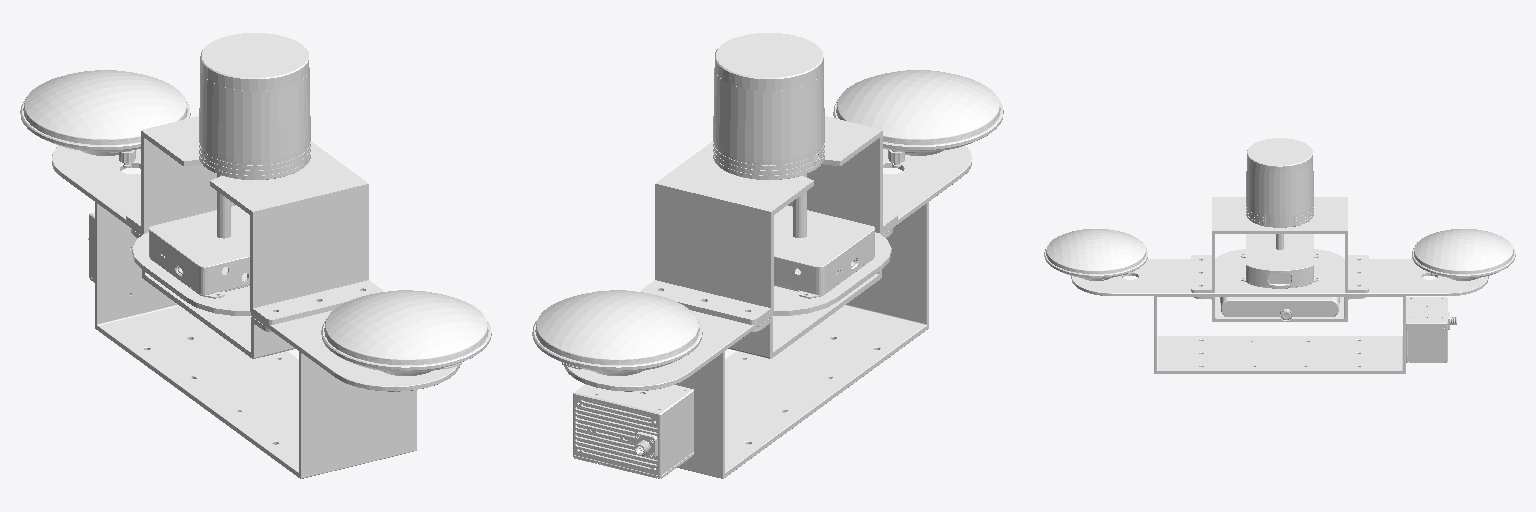
The robot description file, URDF, robot "data_box":
<?xml version="1.0" encoding="utf-8"?>
<!-- This URDF was automatically created by SolidWorks to URDF Exporter! Originally created by [author] ([email redacted]) 
     Commit Version: 1.6.0-1-g15f4949  Build Version: 1.6.7594.29634
     For more information, please see http://wiki.ros.org/sw_urdf_exporter -->
<robot
  name="data_box">
  <link
    name="base_link">
    <inertial>
      <origin
        xyz="-0.000787428914994281 -1.83075406456207E-05 0.107323331270255"
        rpy="0 0 0" />
      <mass
        value="1.15838359805273" />
      <inertia
        ixx="0.0219713158559028"
        ixy="-9.40626592111054E-07"
        ixz="9.2738420089645E-05"
        iyy="0.00422673444217098"
        iyz="-7.70783645651175E-07"
        izz="0.0207259268117321" />
    </inertial>
    <visual>
      <origin
        xyz="0 0 0"
        rpy="0 0 0" />
      <geometry>
        <mesh
          filename="package://data_box/meshes/base_link.STL" />
      </geometry>
      <material
        name="">
        <color
          rgba="1 1 1 1" />
      </material>
    </visual>
    <collision>
      <origin
        xyz="0 0 0"
        rpy="0 0 0" />
      <geometry>
        <mesh
          filename="package://data_box/meshes/base_link.STL" />
      </geometry>
    </collision>
  </link>
  <link
    name="rs_lidar_helios_16_link">
    <inertial>
      <origin
        xyz="-0.00452075202393731 -7.80288514685284E-05 0.260457610770344"
        rpy="0 0 0" />
      <mass
        value="0.113882797696896" />
      <inertia
        ixx="0.000125295044463457"
        ixy="1.11588859800229E-07"
        ixz="3.34574585202296E-07"
        iyy="0.000124081102889914"
        iyz="-2.66581194133952E-08"
        izz="0.000195631931532674" />
    </inertial>
    <visual>
      <origin
        xyz="0 0 0"
        rpy="0 0 0" />
      <geometry>
        <mesh
          filename="package://data_box/meshes/rs_lidar_helios_16_link.STL" />
      </geometry>
      <material
        name="">
        <color
          rgba="1 1 1 1" />
      </material>
    </visual>
    <collision>
      <origin
        xyz="0 0 0"
        rpy="0 0 0" />
      <geometry>
        <mesh
          filename="package://data_box/meshes/rs_lidar_helios_16_link.STL" />
      </geometry>
    </collision>
  </link>
  <joint
    name="rs_lidar_helios_16_joint"
    type="fixed">
    <origin
      xyz="0 0 0"
      rpy="0 0 0" />
    <parent
      link="base_link" />
    <child
      link="rs_lidar_helios_16_link" />
    <axis
      xyz="0 0 0" />
  </joint>
  <link
    name="velodyne">
    <inertial>
      <origin
        xyz="-0.00452075202393731 -7.80288514685284E-05 0.260457610770344"
        rpy="0 0 0" />
      <mass
        value="0.113882797696896" />
      <inertia
        ixx="0.000125295044463457"
        ixy="1.11588859800229E-07"
        ixz="3.34574585202296E-07"
        iyy="0.000124081102889914"
        iyz="-2.66581194133952E-08"
        izz="0.000195631931532674" />
    </inertial>
    <visual>
      <origin
        xyz="0 0 0"
        rpy="0 0 0" />
      <geometry>
        <mesh
          filename="package://data_box/meshes/rs_lidar_helios_16_link.STL" />
      </geometry>
      <material
        name="">
        <color
          rgba="1 1 1 1" />
      </material>
    </visual>
    <collision>
      <origin
        xyz="0 0 0"
        rpy="0 0 0" />
      <geometry>
        <mesh
          filename="package://data_box/meshes/rs_lidar_helios_16_link.STL" />
      </geometry>
    </collision>
  </link>
  <joint
    name="velodyne_joint"
    type="fixed">
    <origin
      xyz="0 0 0"
      rpy="0 0 0" />
    <parent
      link="base_link" />
    <child
      link="velodyne" />
    <axis
      xyz="0 0 0" />
  </joint>
  <link
    name="fix_position_link">
    <inertial>
      <origin
        xyz="-0.0210019786922248 0.000535676714985181 0.144948491359208"
        rpy="0 0 0" />
      <mass
        value="0.118063290085794" />
      <inertia
        ixx="0.00012999992297737"
        ixy="1.73846793301927E-06"
        ixz="-7.00576635618777E-08"
        iyy="0.000194643676178331"
        iyz="2.51581795172831E-07"
        izz="0.000313256645274373" />
    </inertial>
    <visual>
      <origin
        xyz="0 0 0"
        rpy="0 0 0" />
      <geometry>
        <mesh
          filename="package://data_box/meshes/fix_position_link.STL" />
      </geometry>
      <material
        name="">
        <color
          rgba="1 1 1 1" />
      </material>
    </visual>
    <collision>
      <origin
        xyz="0 0 0"
        rpy="0 0 0" />
      <geometry>
        <mesh
          filename="package://data_box/meshes/fix_position_link.STL" />
      </geometry>
    </collision>
  </link>
  <joint
    name="fix_position_joint"
    type="fixed">
    <origin
      xyz="0 0 0"
      rpy="0 0 0" />
    <parent
      link="base_link" />
    <child
      link="fix_position_link" />
    <axis
      xyz="0 0 0" />
  </joint>
  <link
    name="zed_2i_link">
    <inertial>
      <origin
        xyz="0.0406020692823187 2.17827400030152E-05 0.103921804825248"
        rpy="0 0 0" />
      <mass
        value="0.168079517614203" />
      <inertia
        ixx="0.000384913057926628"
        ixy="6.79928635093987E-09"
        ixz="-6.96487594399274E-08"
        iyy="3.26812596707518E-05"
        iyz="1.86536439271353E-09"
        izz="0.000392812643360746" />
    </inertial>
    <visual>
      <origin
        xyz="0 0 0"
        rpy="0 0 0" />
      <geometry>
        <mesh
          filename="package://data_box/meshes/zed_2i_link.STL" />
      </geometry>
      <material
        name="">
        <color
          rgba="1 1 1 1" />
      </material>
    </visual>
    <collision>
      <origin
        xyz="0 0 0"
        rpy="0 0 0" />
      <geometry>
        <mesh
          filename="package://data_box/meshes/zed_2i_link.STL" />
      </geometry>
    </collision>
  </link>
  <joint
    name="zed_2i_joint"
    type="continuous">
    <origin
      xyz="0 0 0"
      rpy="0 0 0" />
    <parent
      link="base_link" />
    <child
      link="zed_2i_link" />
    <axis
      xyz="0 0 1" />
  </joint>
  <link
    name="livox_avia_link">
    <inertial>
      <origin
        xyz="0.0152909813480095 0.214879764678257 0.0499268694334654"
        rpy="0 0 0" />
      <mass
        value="0.350001642183942" />
      <inertia
        ixx="0.000227163794322702"
        ixy="3.05563807786846E-06"
        ixz="-7.86822364841687E-08"
        iyy="0.000364824237094972"
        iyz="4.20617351186621E-08"
        izz="0.000347412468045197" />
    </inertial>
    <visual>
      <origin
        xyz="0 0 0"
        rpy="0 0 0" />
      <geometry>
        <mesh
          filename="package://data_box/meshes/livox_avia_link.STL" />
      </geometry>
      <material
        name="">
        <color
          rgba="1 1 1 1" />
      </material>
    </visual>
    <collision>
      <origin
        xyz="0 0 0"
        rpy="0 0 0" />
      <geometry>
        <mesh
          filename="package://data_box/meshes/livox_avia_link.STL" />
      </geometry>
    </collision>
  </link>
  <joint
    name="livox_avia_joint"
    type="fixed">
    <origin
      xyz="0 0 0"
      rpy="0 0 0" />
    <parent
      link="base_link" />
    <child
      link="livox_avia_link" />
    <axis
      xyz="0 0 0" />
  </joint>
  <link
    name="rs_lidar_m1_link">
    <inertial>
      <origin
        xyz="-9.9075991481179E-05 -0.0114021409702183 0.0270396973956233"
        rpy="0 0 0" />
      <mass
        value="0.125138987066341" />
      <inertia
        ixx="0.000125858785929919"
        ixy="-2.52580122830284E-07"
        ixz="-5.62445354874571E-07"
        iyy="0.000122011142430664"
        iyz="-8.5697690021362E-07"
        izz="0.000219878636311986" />
    </inertial>
    <visual>
      <origin
        xyz="0 0 0"
        rpy="0 0 0" />
      <geometry>
        <mesh
          filename="package://data_box/meshes/rs_lidar_m1_link.STL" />
      </geometry>
      <material
        name="">
        <color
          rgba="1 1 1 1" />
      </material>
    </visual>
    <collision>
      <origin
        xyz="0 0 0"
        rpy="0 0 0" />
      <geometry>
        <mesh
          filename="package://data_box/meshes/rs_lidar_m1_link.STL" />
      </geometry>
    </collision>
  </link>
  <joint
    name="rs_lidar_m1_joint"
    type="fixed">
    <origin
      xyz="0 0 0"
      rpy="0 0 0" />
    <parent
      link="base_link" />
    <child
      link="rs_lidar_m1_link" />
    <axis
      xyz="0 0 0" />
  </joint>
  <link
    name="antenna_left_link">
    <inertial>
      <origin
        xyz="0.00092626279799124 0.266141829669457 0.175614231095598"
        rpy="0 0 0" />
      <mass
        value="0.0635136221031923" />
      <inertia
        ixx="0.000101817017024313"
        ixy="-6.07457557718795E-08"
        ixz="1.26778224996059E-08"
        iyy="0.00010182994551348"
        iyz="1.04586743908485E-08"
        izz="0.000198738425480425" />
    </inertial>
    <visual>
      <origin
        xyz="0 0 0"
        rpy="0 0 0" />
      <geometry>
        <mesh
          filename="package://data_box/meshes/antenna_left_link.STL" />
      </geometry>
      <material
        name="">
        <color
          rgba="1 1 1 1" />
      </material>
    </visual>
    <collision>
      <origin
        xyz="0 0 0"
        rpy="0 0 0" />
      <geometry>
        <mesh
          filename="package://data_box/meshes/antenna_left_link.STL" />
      </geometry>
    </collision>
  </link>
  <joint
    name="antenna_left_joint"
    type="continuous">
    <origin
      xyz="0 0 0"
      rpy="0 0 0" />
    <parent
      link="base_link" />
    <child
      link="antenna_left_link" />
    <axis
      xyz="0 0 1" />
  </joint>
  <link
    name="antenna_right_link">
    <inertial>
      <origin
        xyz="0.00092856699811561 -0.26614164521 0.175615361300037"
        rpy="0 0 0" />
      <mass
        value="0.0635188236843611" />
      <inertia
        ixx="0.000101817178722521"
        ixy="5.98749533463758E-08"
        ixz="1.22645896383536E-08"
        iyy="0.000101829480333974"
        iyz="-1.04999705769353E-08"
        izz="0.000198738445923012" />
    </inertial>
    <visual>
      <origin
        xyz="0 0 0"
        rpy="0 0 0" />
      <geometry>
        <mesh
          filename="package://data_box/meshes/antenna_right_link.STL" />
      </geometry>
      <material
        name="">
        <color
          rgba="1 1 1 1" />
      </material>
    </visual>
    <collision>
      <origin
        xyz="0 0 0"
        rpy="0 0 0" />
      <geometry>
        <mesh
          filename="package://data_box/meshes/antenna_right_link.STL" />
      </geometry>
    </collision>
  </link>
  <joint
    name="antenna_right_joint"
    type="continuous">
    <origin
      xyz="0 0 0"
      rpy="0 0 0" />
    <parent
      link="base_link" />
    <child
      link="antenna_right_link" />
    <axis
      xyz="0 0 1" />
  </joint>
  <link name="POI"> </link>
  <joint name="POI_joint" type="fixed">
    <parent link="base_link" />
    <child link="POI" />
    <origin xyz="0 0 0" rpy="0 0 0" />
  </joint>
  <link name="imu_correct_link"> </link>
  <joint name="imu_correct_joint" type="fixed">
    <parent link="base_link" />
    <child link="imu_correct_link" />
    <origin xyz="0 0 0" rpy="0.0224 0.0129 -0.0071" />
  </joint>
</robot>

--- What the picture shows (computed from the rendered views, not written in the file) ---
3 views of the same robot in one strip: view 1: azimuth 30°, elevation 25°; view 2: azimuth 150°, elevation 25°; view 3: azimuth 270°, elevation 25° (orthographic).
Robot: data_box — 11 links, 10 joints (3 continuous, 7 fixed); root link base_link; default pose: all joints at 0.
Links seen in each view (by area): view 1: base_link, rs_lidar_helios_16_link, antenna_right_link, antenna_left_link, fix_position_link; view 2: base_link, rs_lidar_helios_16_link, antenna_left_link, antenna_right_link, livox_avia_link, fix_position_link; view 3: base_link, rs_lidar_helios_16_link, antenna_right_link, antenna_left_link, fix_position_link, livox_avia_link, zed_2i_link.
Boxes of the visible links, x1,y1,x2,y2 form: base_link: [52, 116, 459, 478]; rs_lidar_helios_16_link: [199, 33, 310, 238]; antenna_right_link: [321, 290, 491, 375]; antenna_left_link: [20, 70, 190, 167]; fix_position_link: [149, 205, 249, 298]; base_link: [564, 116, 971, 478]; rs_lidar_helios_16_link: [713, 33, 824, 237]; antenna_left_link: [532, 290, 702, 375]; antenna_right_link: [833, 70, 1003, 167]; livox_avia_link: [573, 384, 693, 478]; fix_position_link: [774, 205, 874, 298]; base_link: [1071, 197, 1488, 373]; rs_lidar_helios_16_link: [1246, 138, 1313, 249]; antenna_right_link: [1044, 229, 1147, 280]; antenna_left_link: [1412, 229, 1515, 280]; fix_position_link: [1241, 234, 1318, 288]; livox_avia_link: [1406, 297, 1456, 362]; zed_2i_link: [1220, 297, 1339, 321].
Size in the robot's own frame: 0.1708 by 0.689 by 0.33 metres.
Meshes: 8 distinct files referenced, 8 mesh visuals loaded (7 binary STL); not drawn: 1 (reference not matched to a file when rendering).